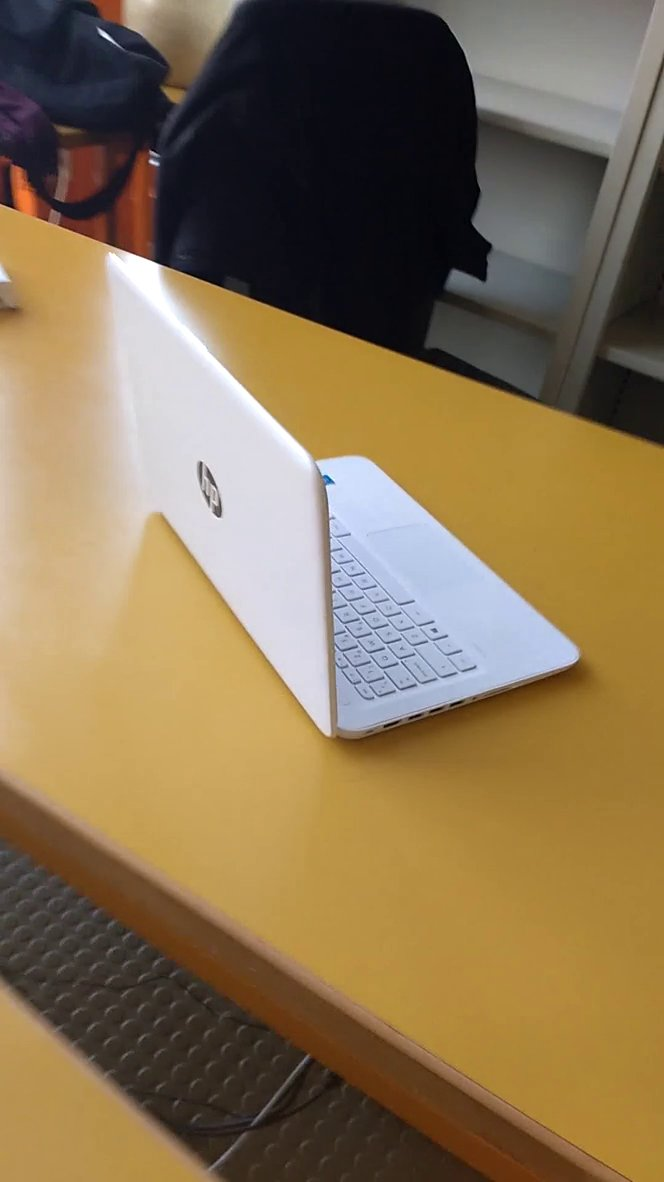chair: (123, 1, 504, 353)
laptop: (96, 244, 588, 757)
